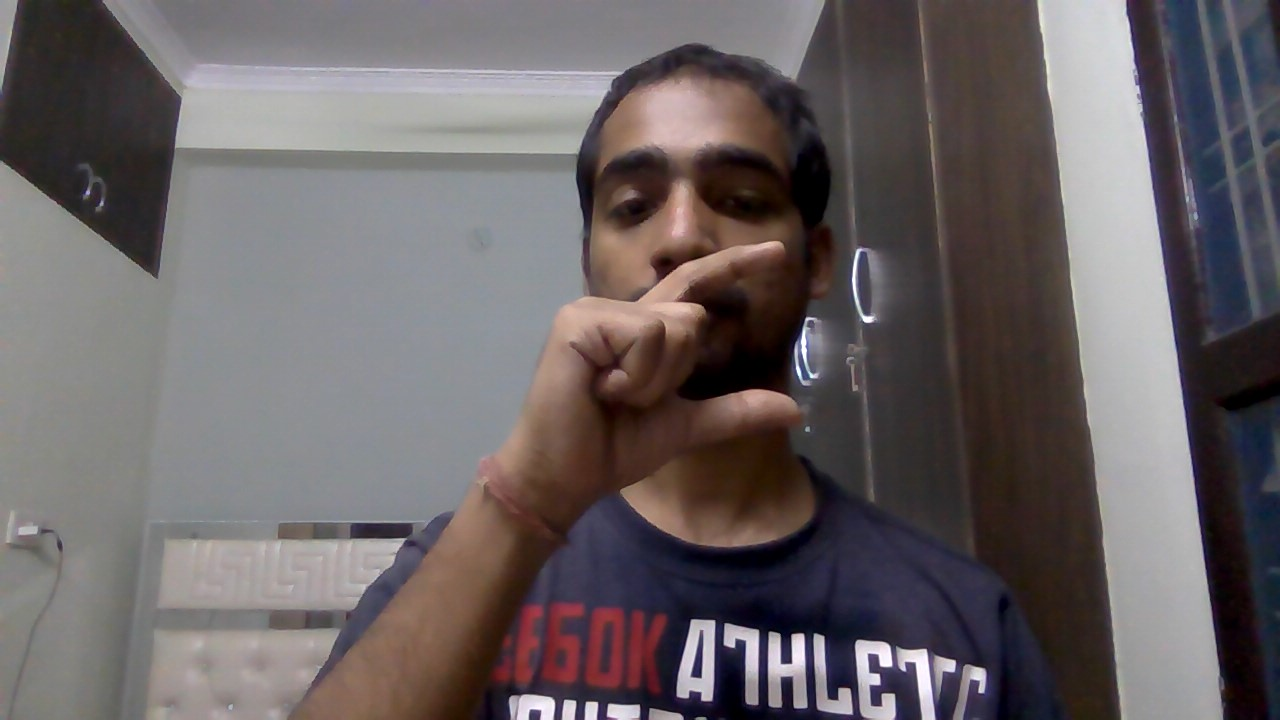Paste: (504, 231, 826, 516)
